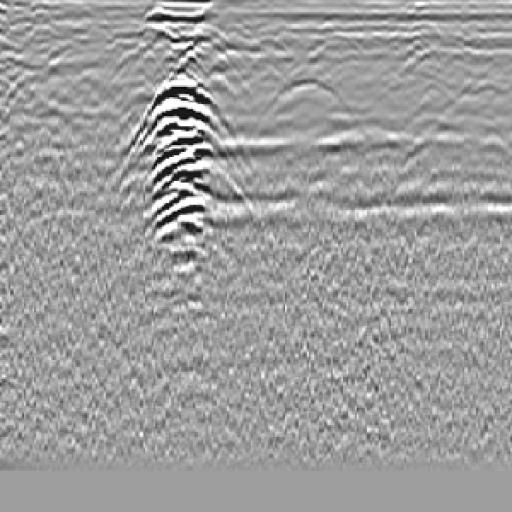metalic: (115, 30, 265, 352)
nonmetalic: (245, 60, 370, 167)
